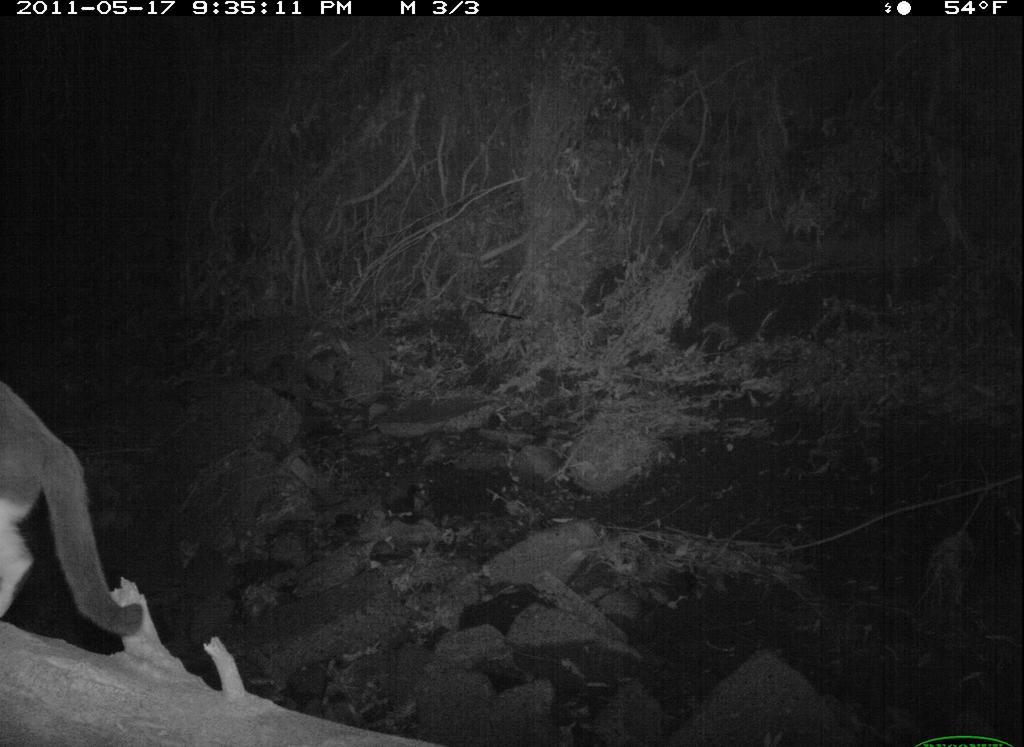cat: (1, 369, 160, 650)
